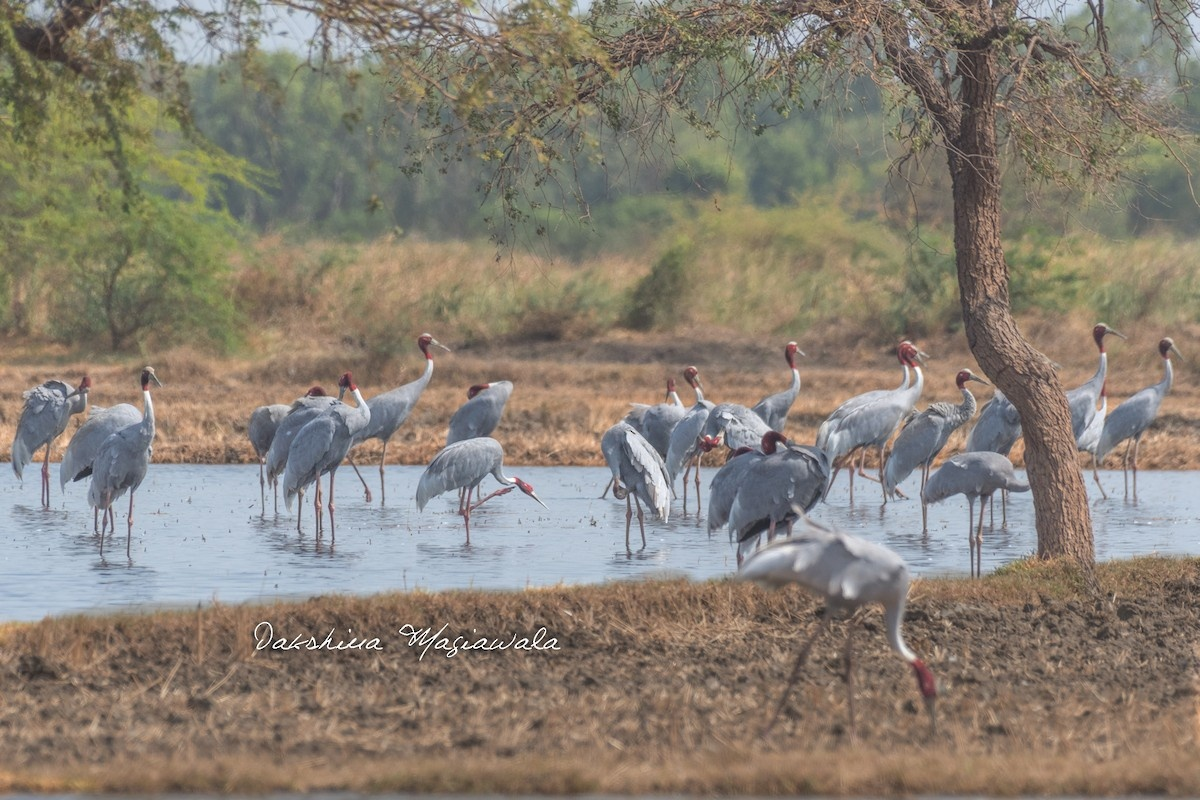crane: (740, 536, 961, 729), (417, 430, 554, 542), (290, 366, 369, 556), (358, 322, 459, 468), (97, 363, 174, 547), (830, 344, 939, 465), (1108, 335, 1187, 479), (600, 413, 680, 554), (909, 364, 990, 494), (1073, 323, 1127, 454), (759, 329, 810, 429), (680, 366, 709, 467)
